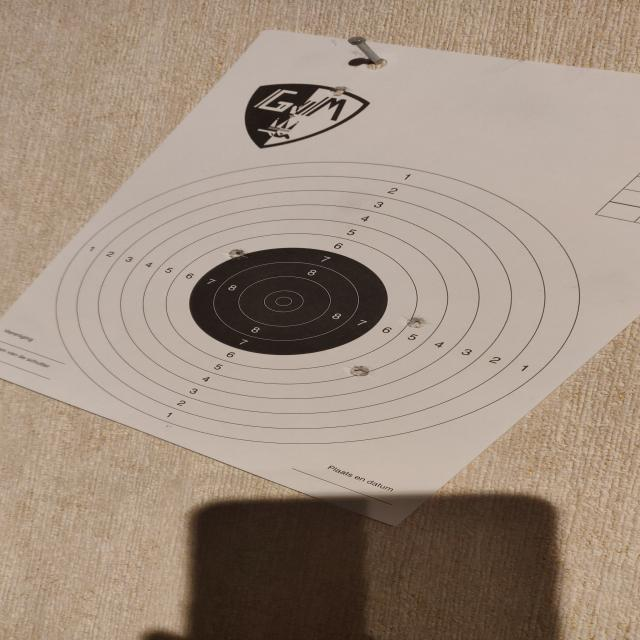0: (329, 86, 352, 98)
5: (345, 363, 373, 378)
6: (404, 315, 428, 328)
7: (223, 248, 250, 261)
Target: (54, 160, 582, 446)
black_contour: (188, 248, 390, 356)
